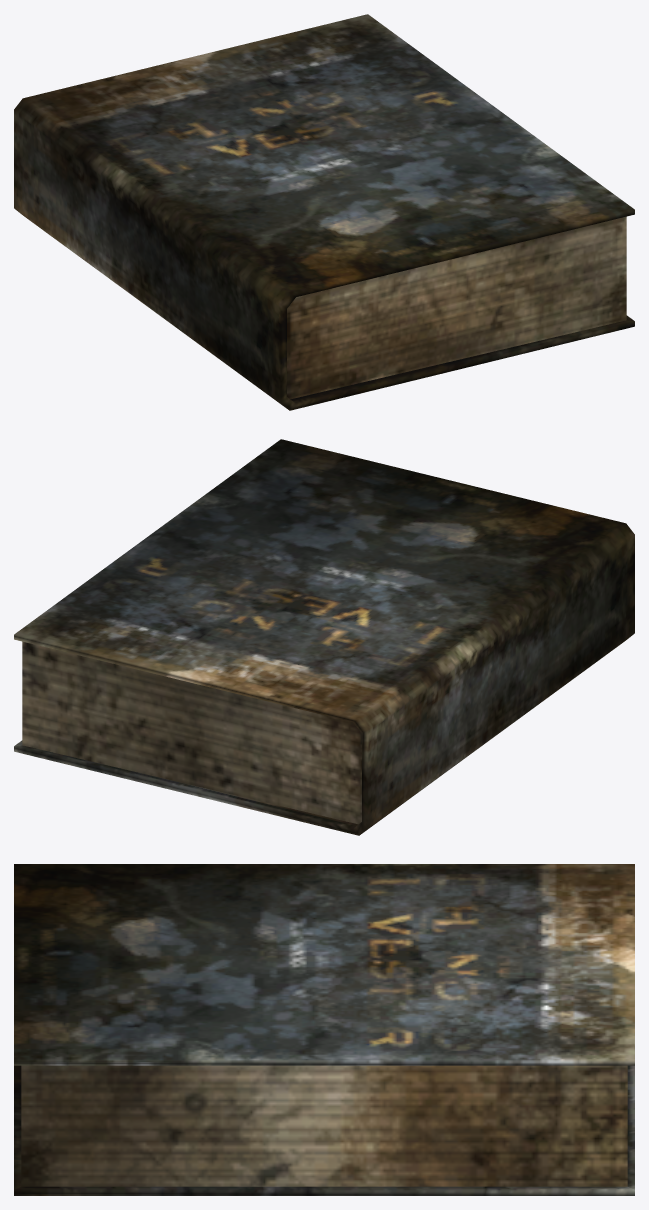
The model's file is book06.FBX.
The picture shows the model from 3 angles, top to bottom: view 1: azimuth 30°, elevation 25°; view 2: azimuth 150°, elevation 25°; view 3: azimuth 270°, elevation 25°; orthographic projection. The views are drawn at different scales.
Visible parts, largest first — view 1: SM_Book06; view 2: SM_Book06; view 3: SM_Book06.
Boxes of the visible parts, x1,y1,x2,y2 form: SM_Book06: (14, 14, 634, 410); SM_Book06: (14, 439, 634, 835); SM_Book06: (14, 864, 634, 1195).
Bounding box in the file's own units: 18.97 × 5.99 × 24.79.
1 material, 1 textured.
